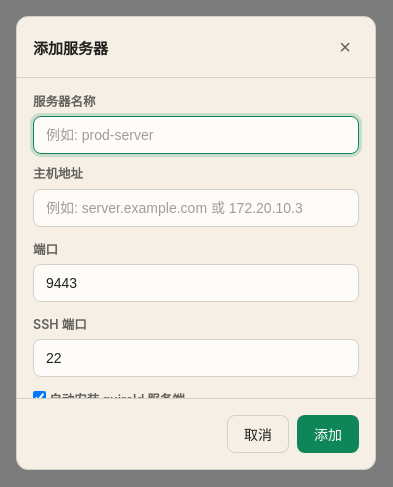
Test case: AddServerModal 必填校验（R11-02 回归） › 名称主机为空时保存：显示内联错误、不提交、不关闭
// 添加对话框的提交按钮文案是 settings.addBtn（「添加」），按主按钮类名定位
Click the button with class "st-btn-primary".
click(328, 434)  # box top-left (297, 415), bottom-right (359, 453)
(page scrolled)
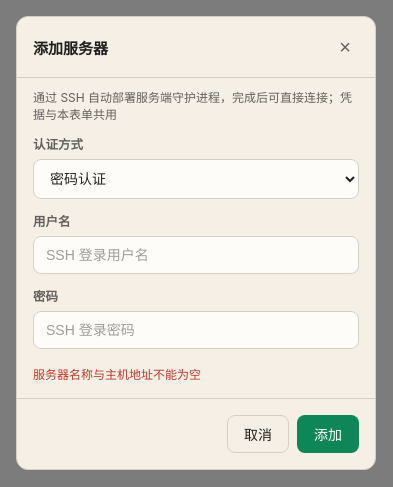
Now the text "服务器名称与主机地址不能为空" is shown, box top-left (33, 366), bottom-right (201, 382)
